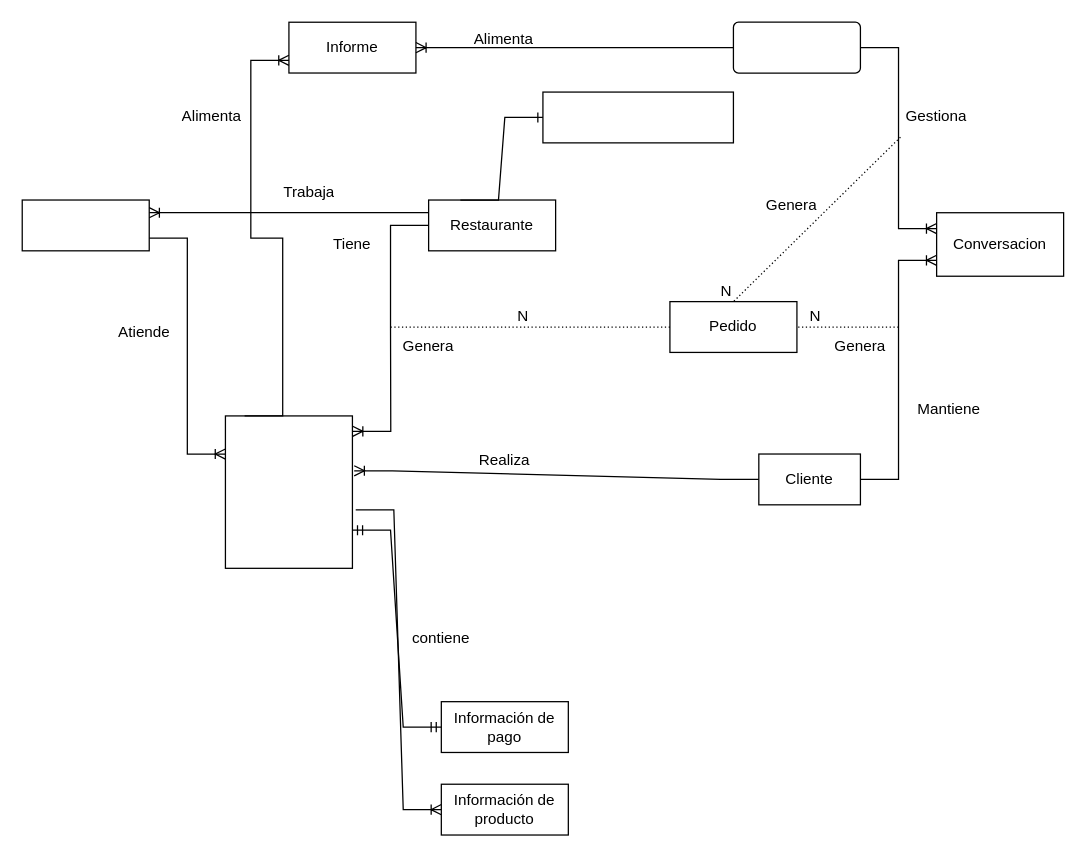
Some shapes in this 1086 by 857 pixel diagram are drawn without their labels. The shapes that lost their labels are listed below. From the top down, each one's box as (x1, y1, x2, y2) in pixels, then its label:
(732, 21, 860, 73): Chatbot
(542, 91, 733, 143): Dueño/Administrador
(21, 199, 149, 251): mesero
(224, 415, 352, 568): Orden de domicilio
